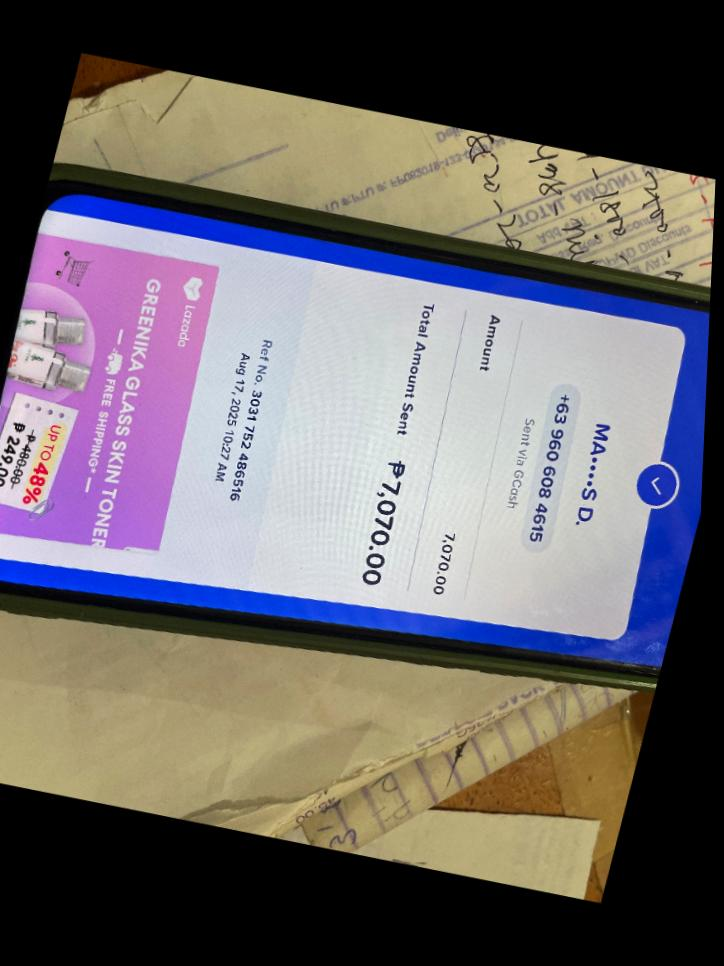Receipt: (0, 193, 709, 669)
